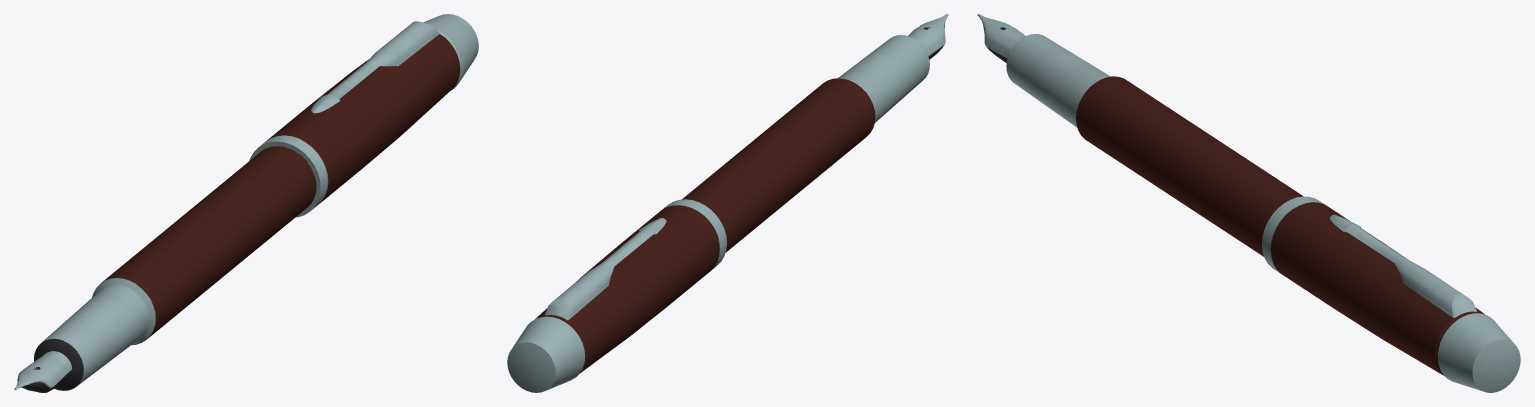
The model's file is obj_old_pen_7a09c7.glb.
3 renders of one model, left to right at view 1: azimuth 30°, elevation 25°; view 2: azimuth 210°, elevation 25°; view 3: azimuth 270°, elevation 25°, orthographic. The views are drawn at different scales.
Visible parts, largest first — view 1: obj_old_pen_7a09c7; view 2: obj_old_pen_7a09c7; view 3: obj_old_pen_7a09c7.
Boxes of the visible parts, x1,y1,x2,y2 form: obj_old_pen_7a09c7: (14, 14, 478, 392); obj_old_pen_7a09c7: (507, 14, 948, 392); obj_old_pen_7a09c7: (977, 14, 1520, 392).
Bounding box in the file's own units: 0.14 × 0.0157 × 0.0927.
1 material, 1 textured.
